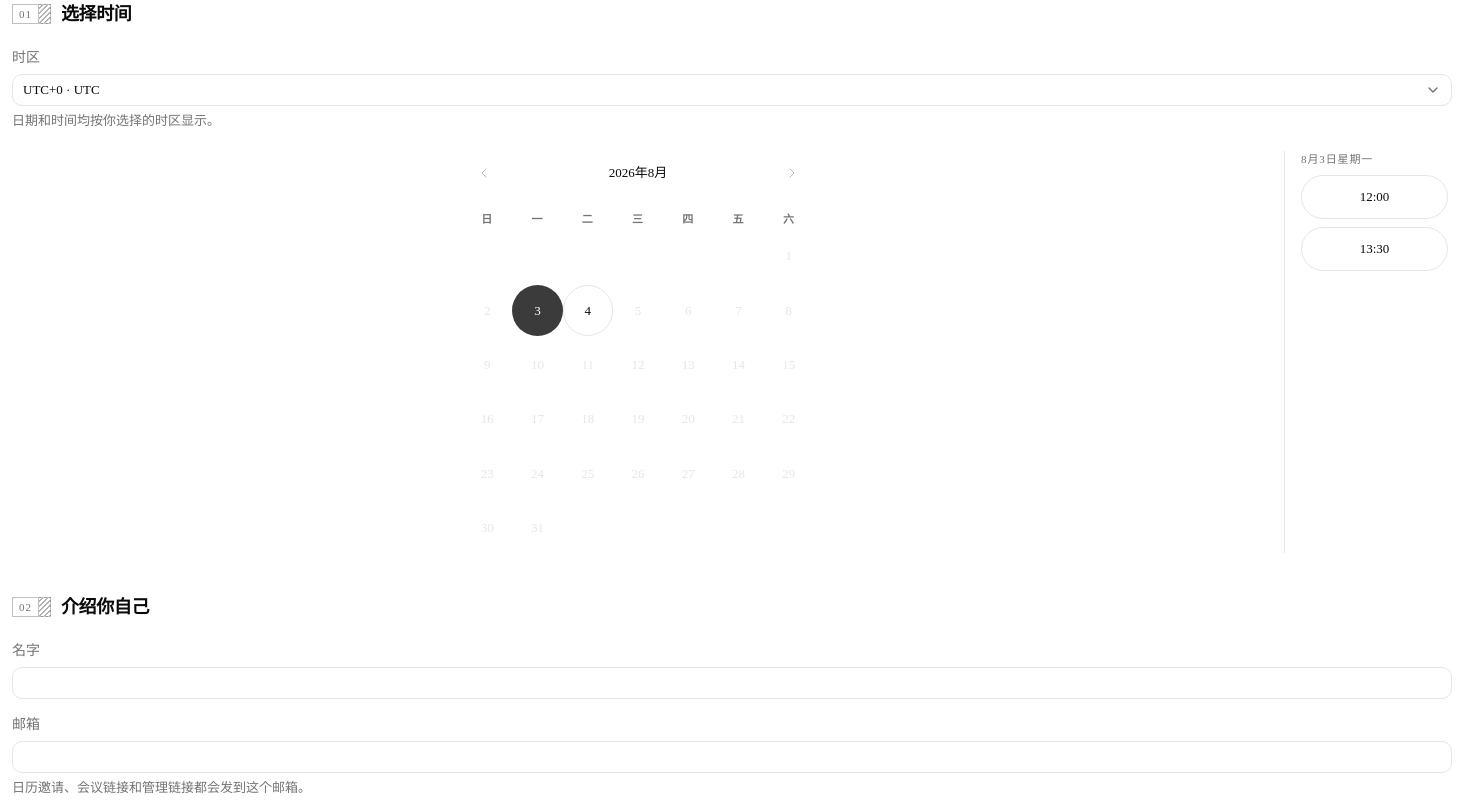
Test: BookingFlow › re-groups on time zone change without losing typed intake
Type "Ada Lovelace" into the field labelled "名字" at (732, 683), box [12,667,1452,699]
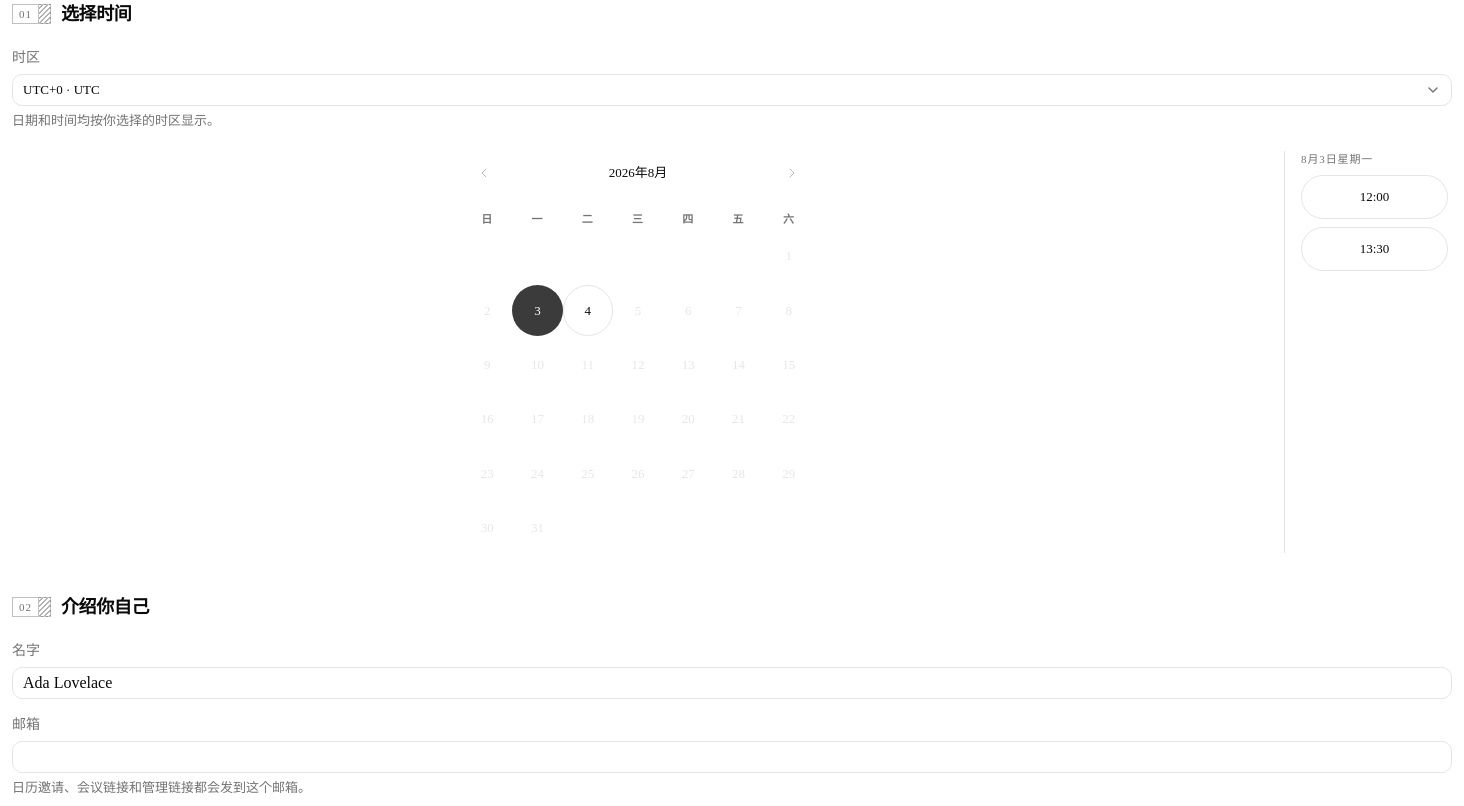
Type "ada@example.com" into the field labelled "邮箱" at (732, 757), box [12,741,1452,773]
(page scrolled)
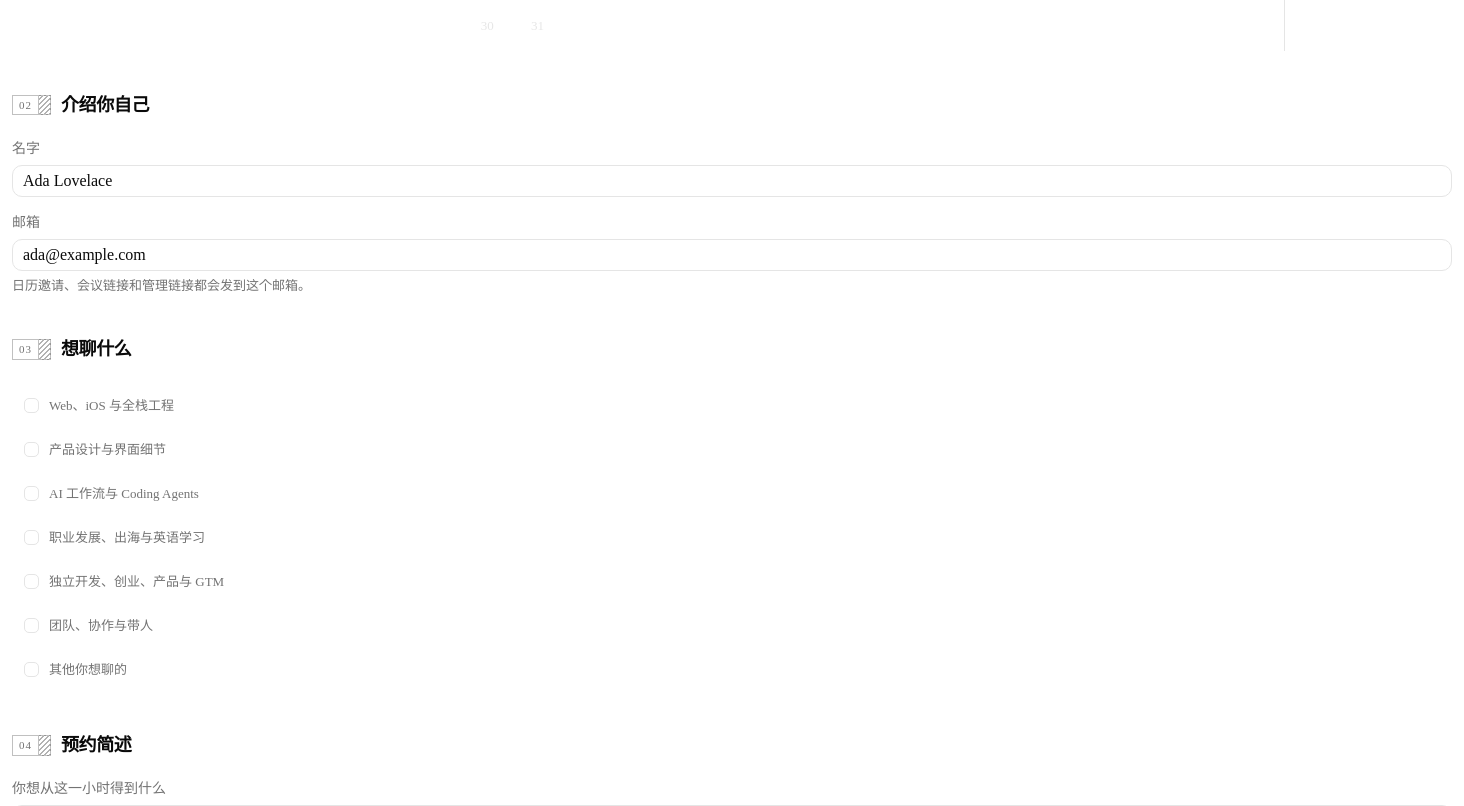
Click the checkbox labelled "Web、iOS 与全栈工程" at (99, 405), box [24,398,174,413]
(page scrolled)
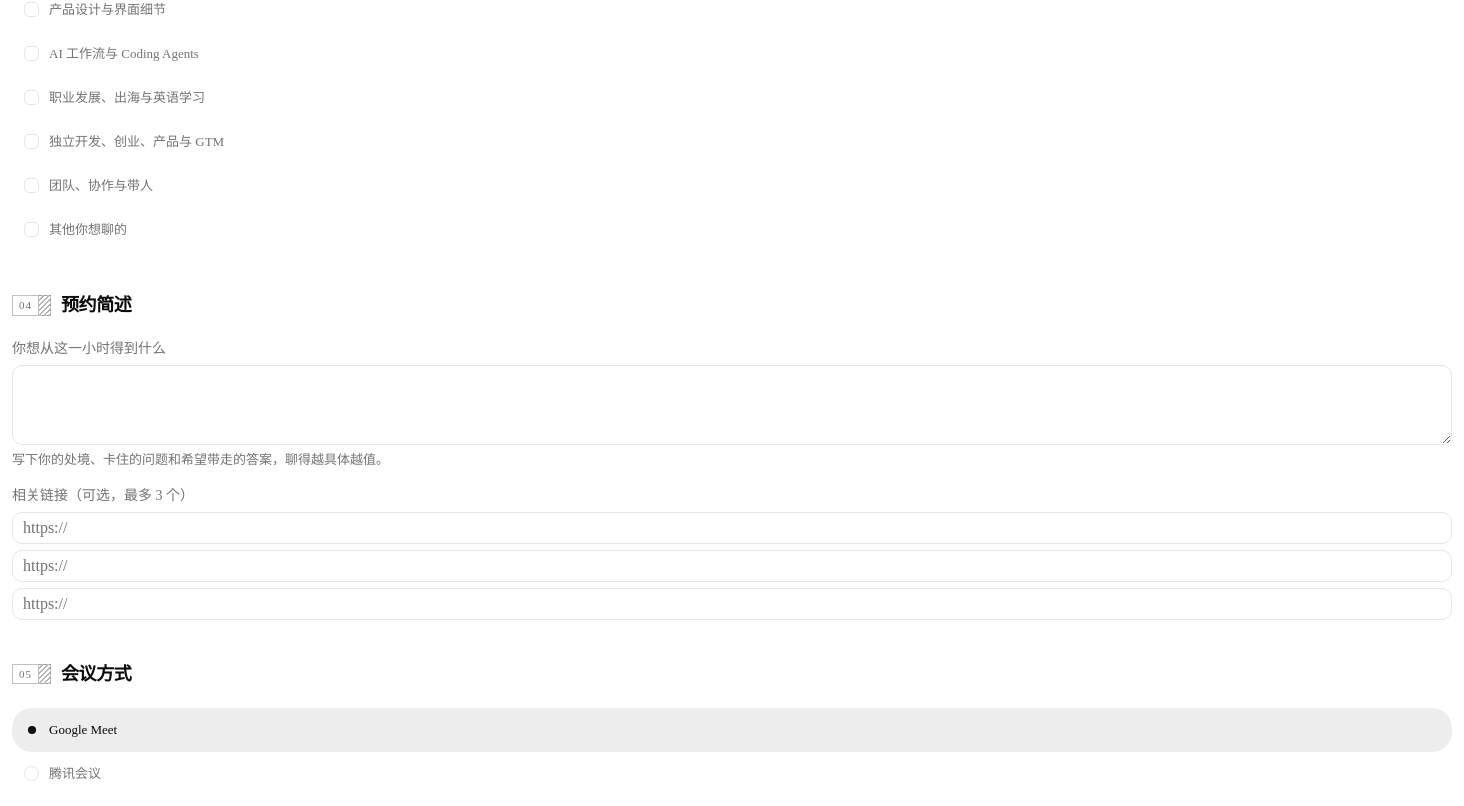
Type "I want to talk through my product roadmap." into the text box labelled "你想从这一小时得到什么" at (732, 405), box [12,365,1452,445]
(page scrolled)
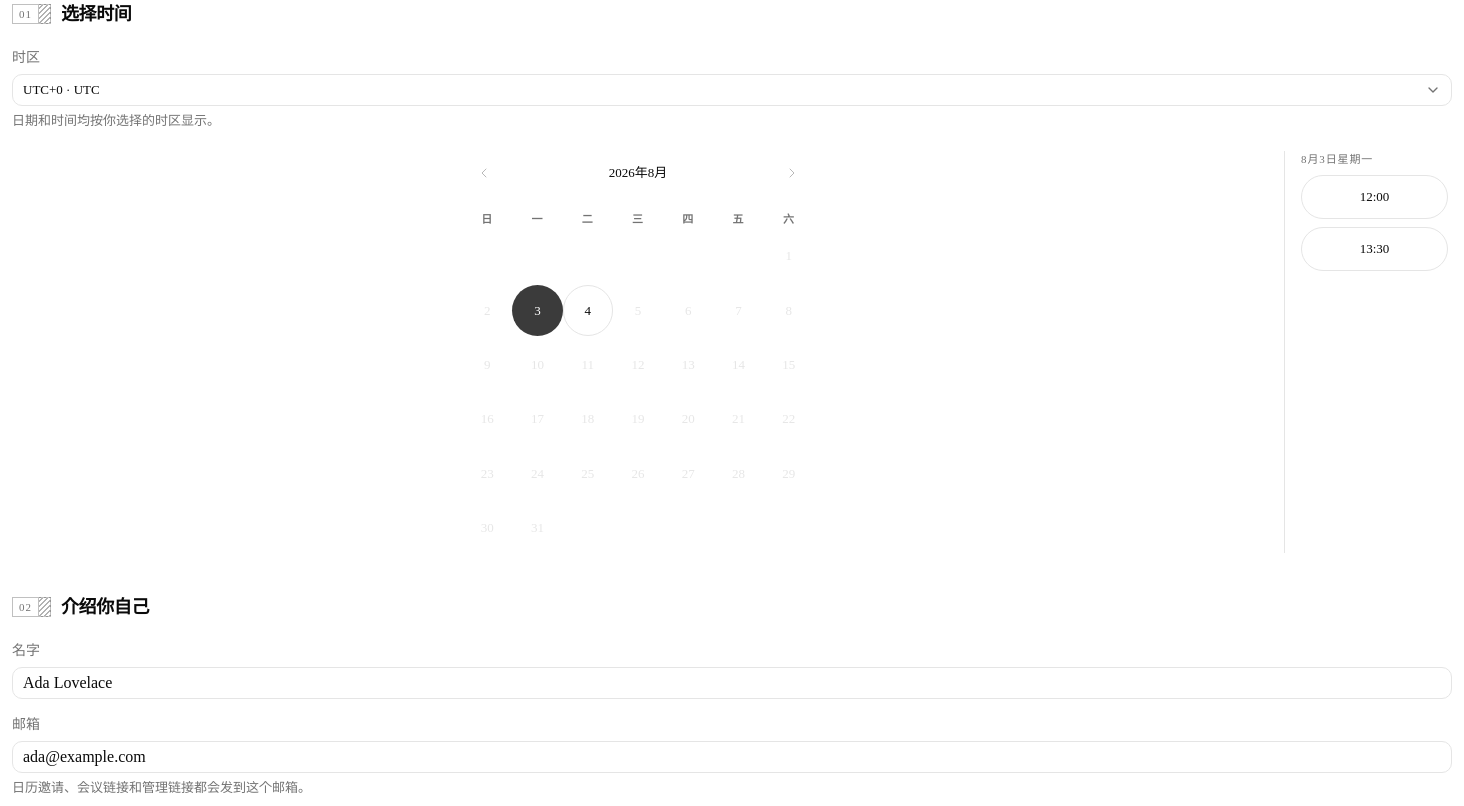
Replace the text in the dropdown with "America/New_York" at (61, 89), box [12,74,1452,106]
(page scrolled)
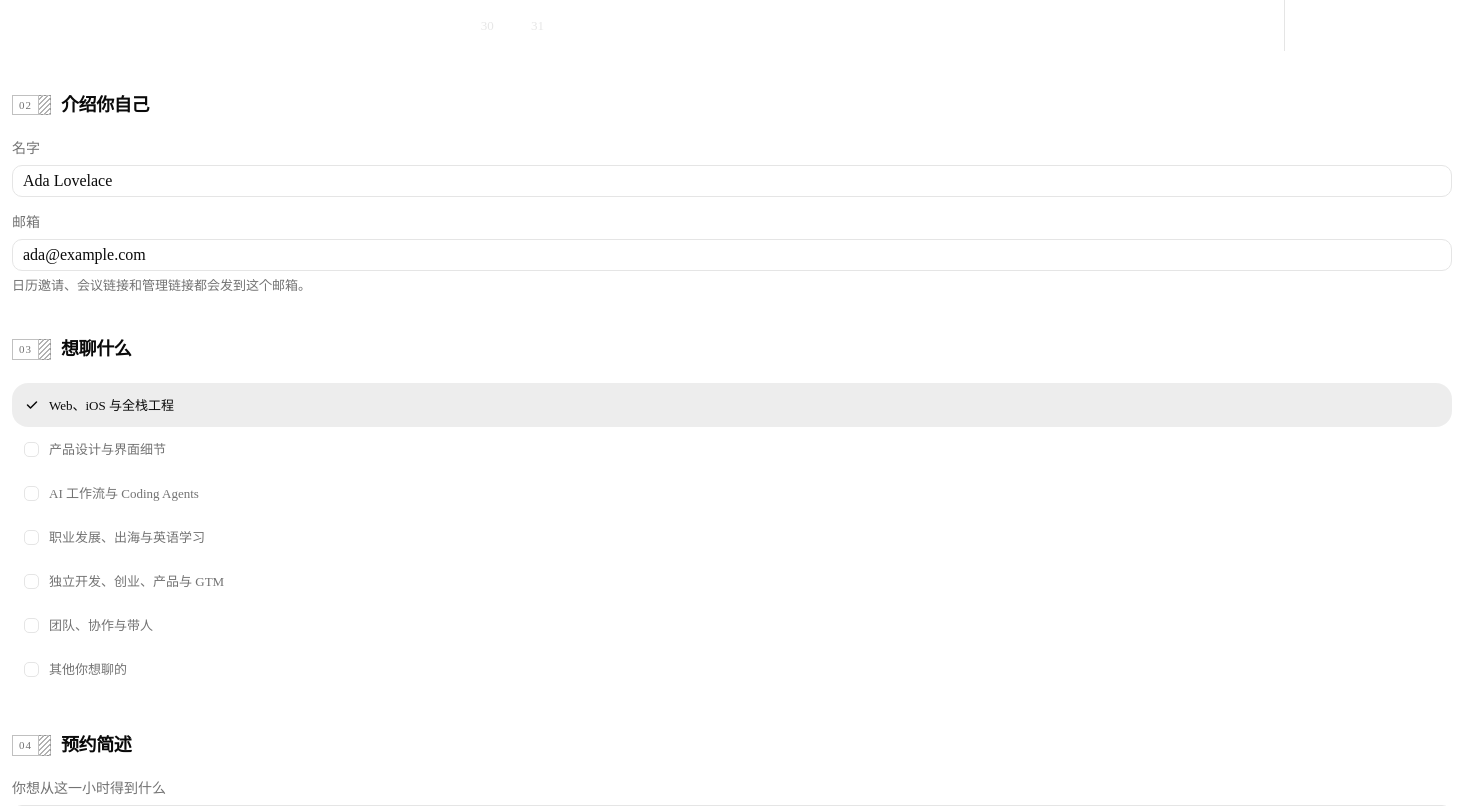
Expected: the checkbox labelled "Web、iOS 与全栈工程" is checked, [22,396,174,414]
